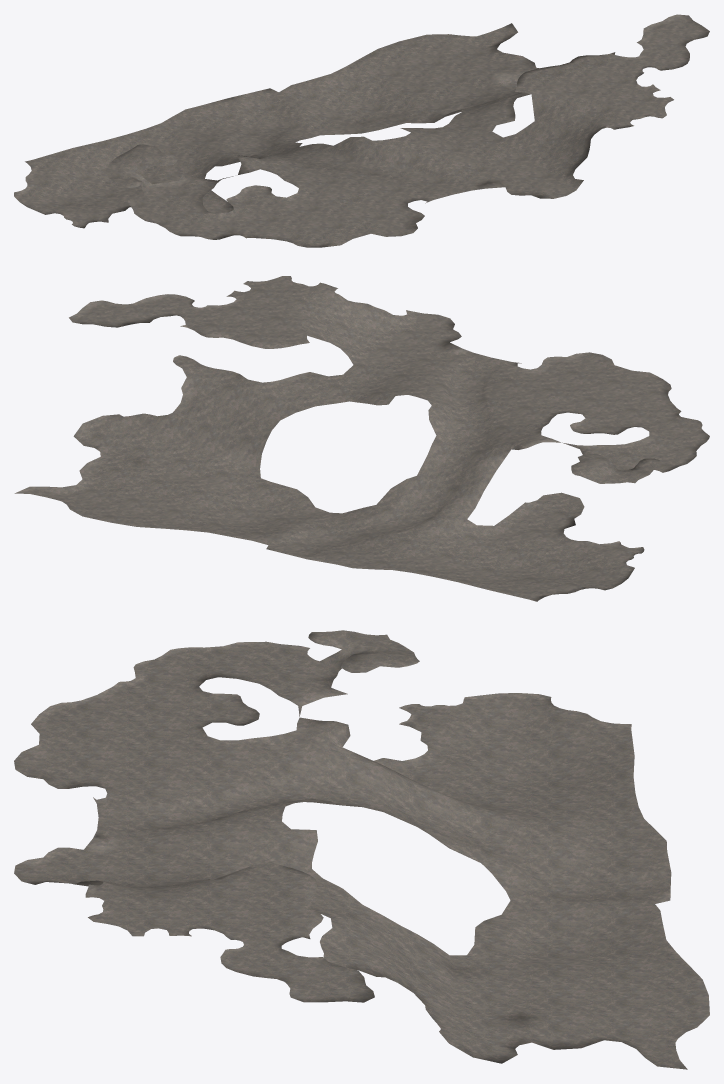
Rendered from EKH_ENTRANCE_PS_EN_LINE08.fbx.
3 renders of one model, top to bottom at view 1: azimuth 30°, elevation 25°; view 2: azimuth 150°, elevation 25°; view 3: azimuth 270°, elevation 25°, orthographic. The views are drawn at different scales.
Visible parts, largest first — view 1: EKH_ENTRANCE_PS_EN_LINE08; view 2: EKH_ENTRANCE_PS_EN_LINE08; view 3: EKH_ENTRANCE_PS_EN_LINE08.
Boxes of the visible parts, x1=… form: EKH_ENTRANCE_PS_EN_LINE08: x1=14, y1=14, x2=709, y2=247; EKH_ENTRANCE_PS_EN_LINE08: x1=14, y1=276, x2=709, y2=601; EKH_ENTRANCE_PS_EN_LINE08: x1=14, y1=630, x2=709, y2=1069.
Bounding box in the file's own units: 661147 × 90737 × 465022.
1 material, 1 textured.
